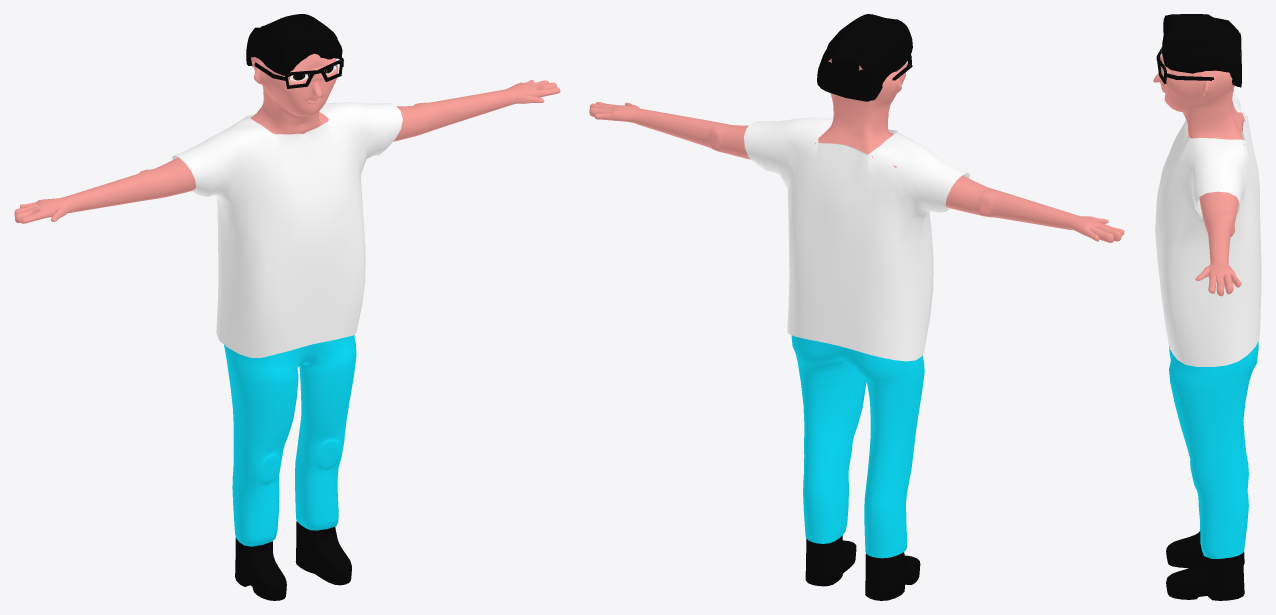
The model's file is Thanga18.glb.
3 renders of one model, left to right at view 1: azimuth 30°, elevation 25°; view 2: azimuth 150°, elevation 25°; view 3: azimuth 270°, elevation 25°, orthographic. The views are drawn at different scales.
Visible parts, largest first — view 1: Model; view 2: Model; view 3: Model.
Part boxes in pixels (left/top/right/bottom): Model: left=14, top=14, right=560, bottom=600; Model: left=589, top=14, right=1124, bottom=600; Model: left=1153, top=14, right=1261, bottom=600.
Size of the model in its own units: 1.83 by 1.82 by 0.3194.
1 material, 1 textured.
